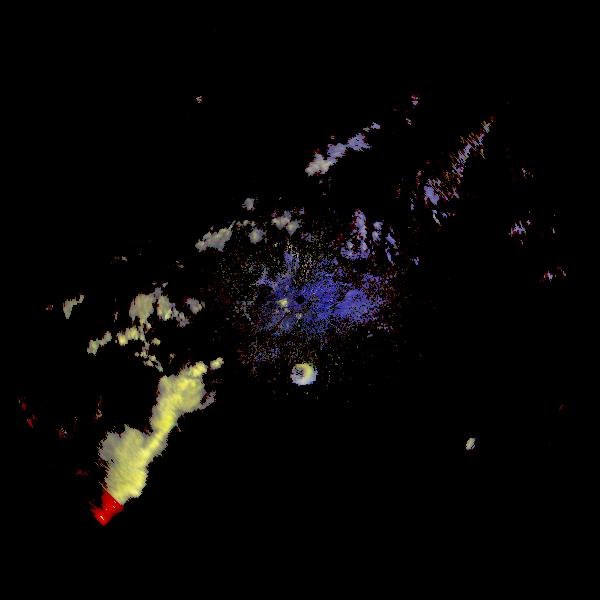roost: (289, 361, 316, 388), (465, 433, 492, 460)
